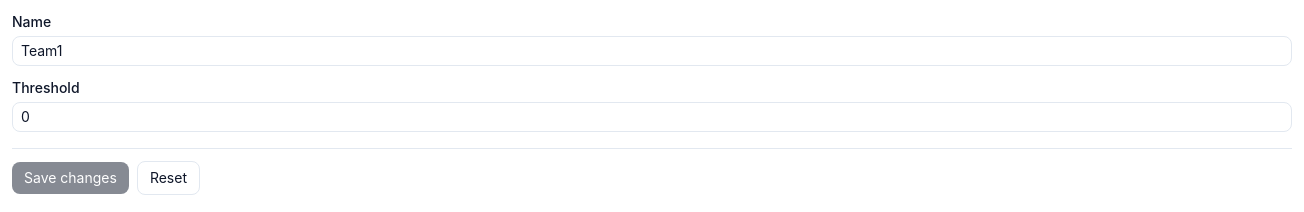
<SettingsForm> › Reset returns to initial values
The image size is (1304, 212).
Replace the text in the field labelled "Name" with "NewName" at (652, 51), box 12,36 -> 1292,66
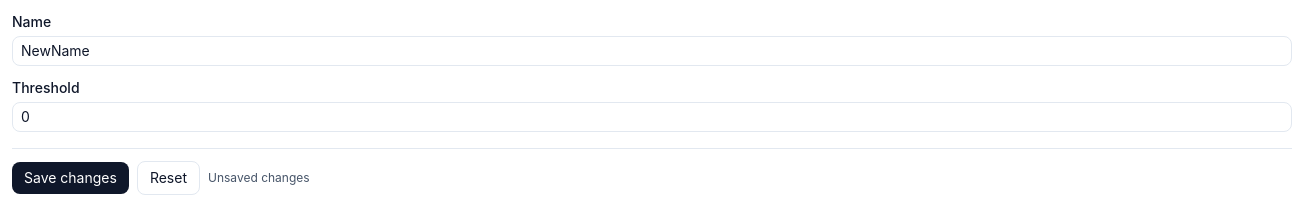
Click the button "Reset".
click(168, 178)  # box 137,161 -> 200,195
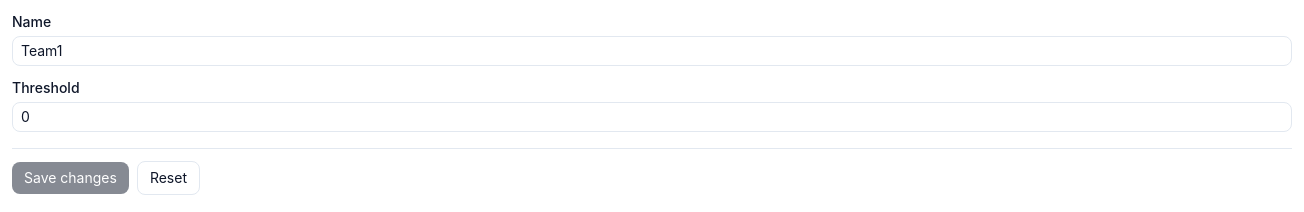
Now the field labelled "Name" holds "Team1", box 12,36 -> 1292,66
Now the button "Save changes" is disabled, box 12,162 -> 129,194
